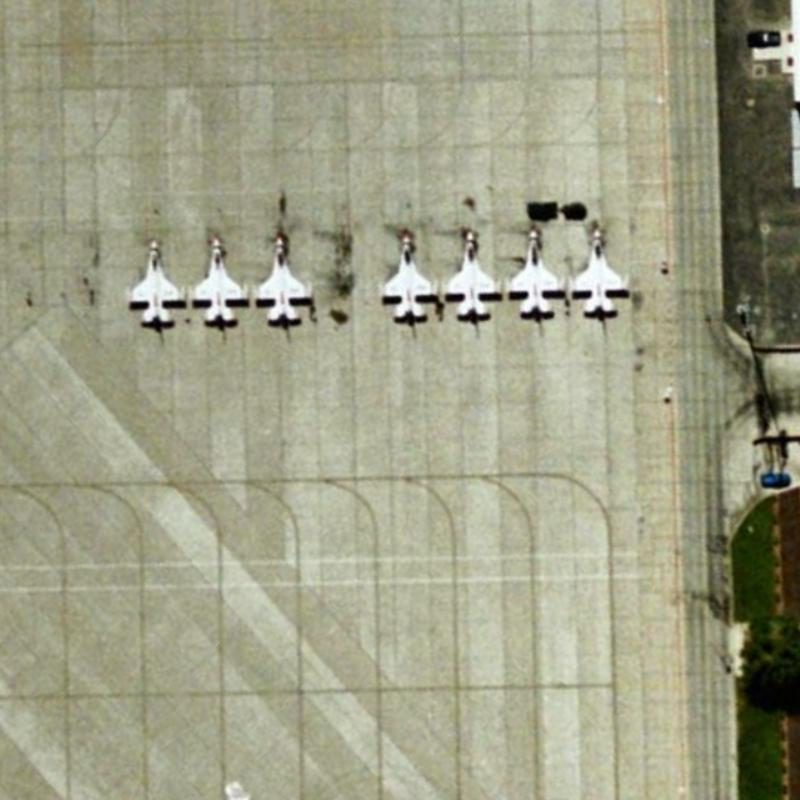A5: (115, 227, 192, 333), (247, 227, 317, 331), (496, 222, 569, 321), (375, 228, 442, 329), (185, 230, 250, 332), (569, 223, 633, 325), (442, 225, 503, 323)
